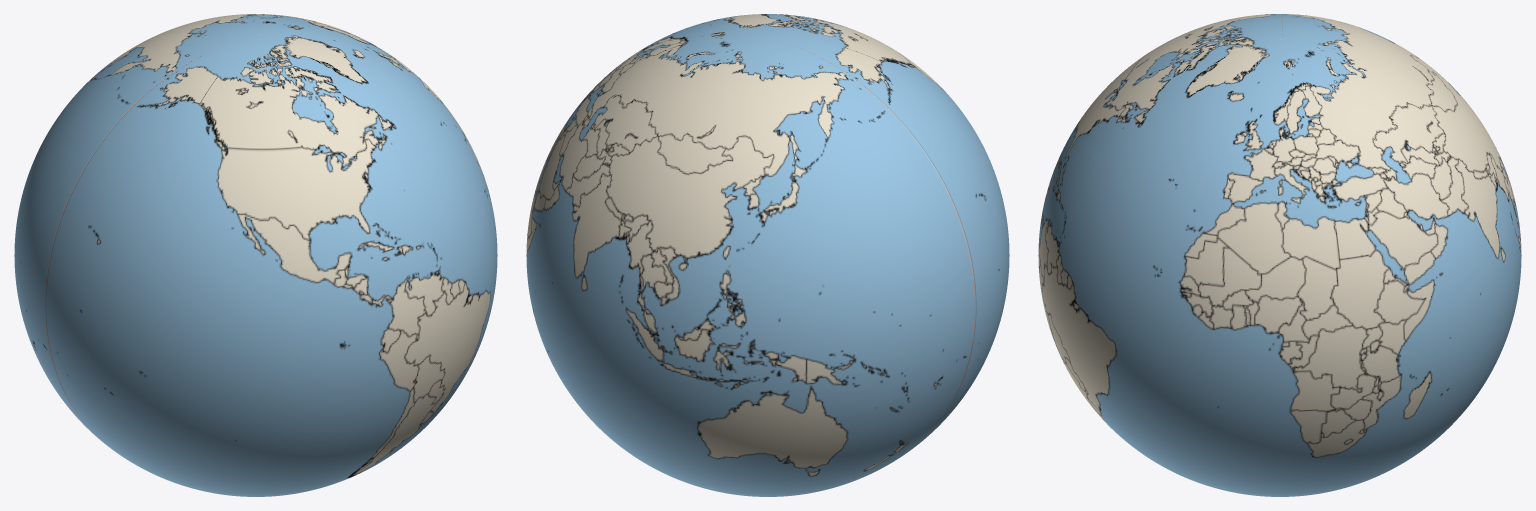
File: morph_earth.FBX
The picture shows the model from 3 angles, left to right: view 1: azimuth 30°, elevation 25°; view 2: azimuth 150°, elevation 25°; view 3: azimuth 270°, elevation 25°; orthographic projection.
Parts seen in each view (by area): view 1: GeoSphere007; view 2: GeoSphere007; view 3: GeoSphere007.
Part boxes in pixels (x1=…): GeoSphere007: x1=14, y1=14, x2=497, y2=496; GeoSphere007: x1=526, y1=14, x2=1009, y2=496; GeoSphere007: x1=1038, y1=14, x2=1521, y2=496.
Bounding box in the file's own units: 52.36 × 52.36 × 52.36.
